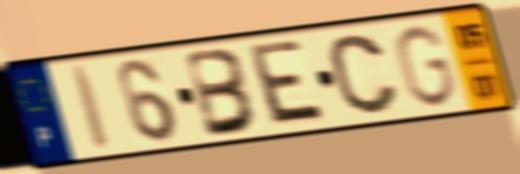6: (116, 56, 181, 147)
B: (182, 45, 261, 141)
C: (326, 32, 403, 118)
E: (247, 37, 332, 129)
G: (391, 22, 460, 111)
I: (68, 61, 115, 154)
